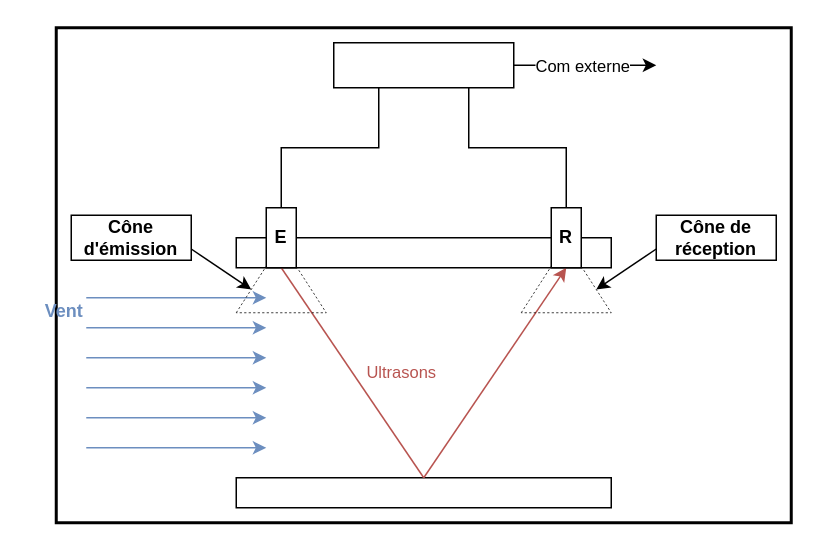
This 818x549 diagram has some shape labels left out. Each missing label, with the box of its shape:
Calculateur: (332, 41, 514, 88)
Réflecteur (ondes sonores): (235, 476, 611, 508)
